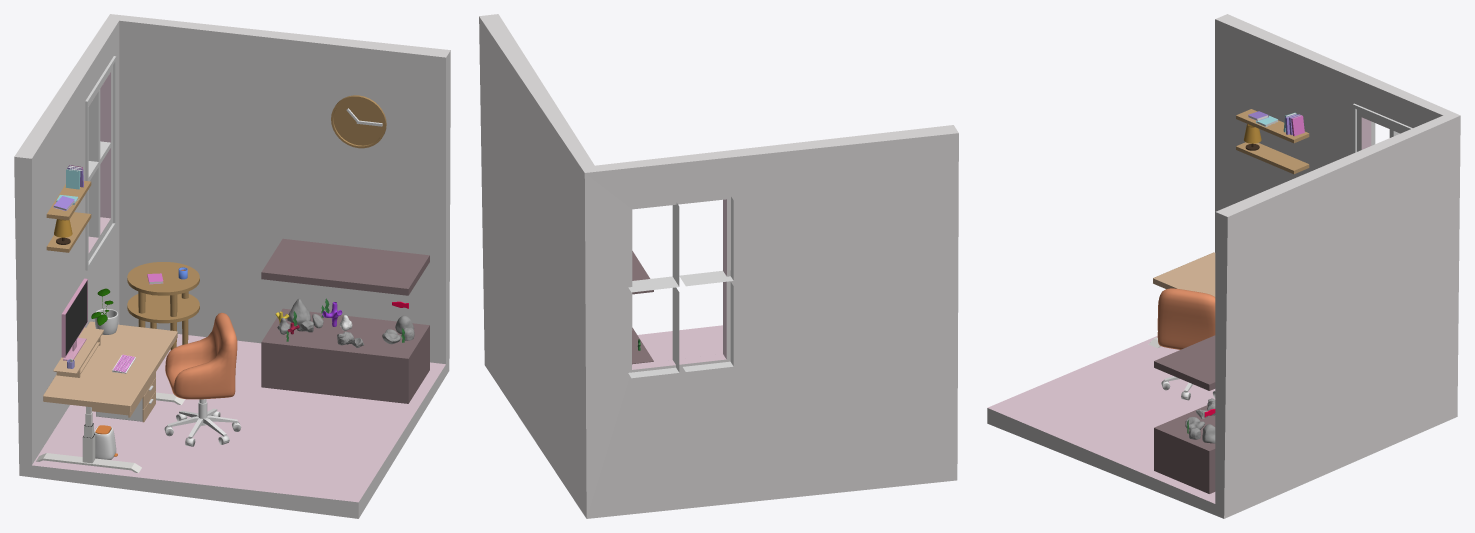
Rendered from room-finale.glb.
3 views of the same model, side by side, from view 1: azimuth 30°, elevation 25°; view 2: azimuth 150°, elevation 25°; view 3: azimuth 270°, elevation 25° (orthographic). The views are drawn at different scales.
Parts seen in each view (by area): view 1: Room, Cube.020, Table top, Cube.013, Plane, Cylinder.006, Cylinder.003, Cylinder.004, Table leg holder, Table top holder, Screen, Cylinder.005 (+5 smaller); view 2: Room, Plane, Cube.020; view 3: Room, Cube.020, Cube.013, Table top, Plane, Cube.006, Cube.005.
Boxes of the visible parts, x1,y1,x2,y2 form: Room: [14, 14, 450, 518]; Cube.020: [261, 238, 429, 403]; Table top: [43, 321, 177, 411]; Cube.013: [165, 312, 237, 399]; Plane: [85, 56, 116, 270]; Cylinder.006: [331, 95, 386, 148]; Cylinder.003: [127, 262, 199, 295]; Cylinder.004: [127, 294, 199, 323]; Table leg holder: [36, 392, 184, 472]; Table top holder: [53, 327, 103, 377]; Screen: [65, 281, 87, 355]; Cylinder.005: [138, 291, 188, 350]; Room: [479, 14, 958, 518]; Plane: [628, 197, 733, 378]; Cube.020: [632, 251, 653, 364]; Room: [987, 14, 1460, 518]; Cube.020: [1154, 335, 1215, 493]; Cube.013: [1157, 288, 1215, 349]; Table top: [1153, 252, 1215, 296]; Plane: [1352, 103, 1412, 153]; Cube.006: [1236, 142, 1309, 174]; Cube.005: [1236, 109, 1309, 143].
Size of the model in its own units: 13.25 by 9.37 by 13.05.
